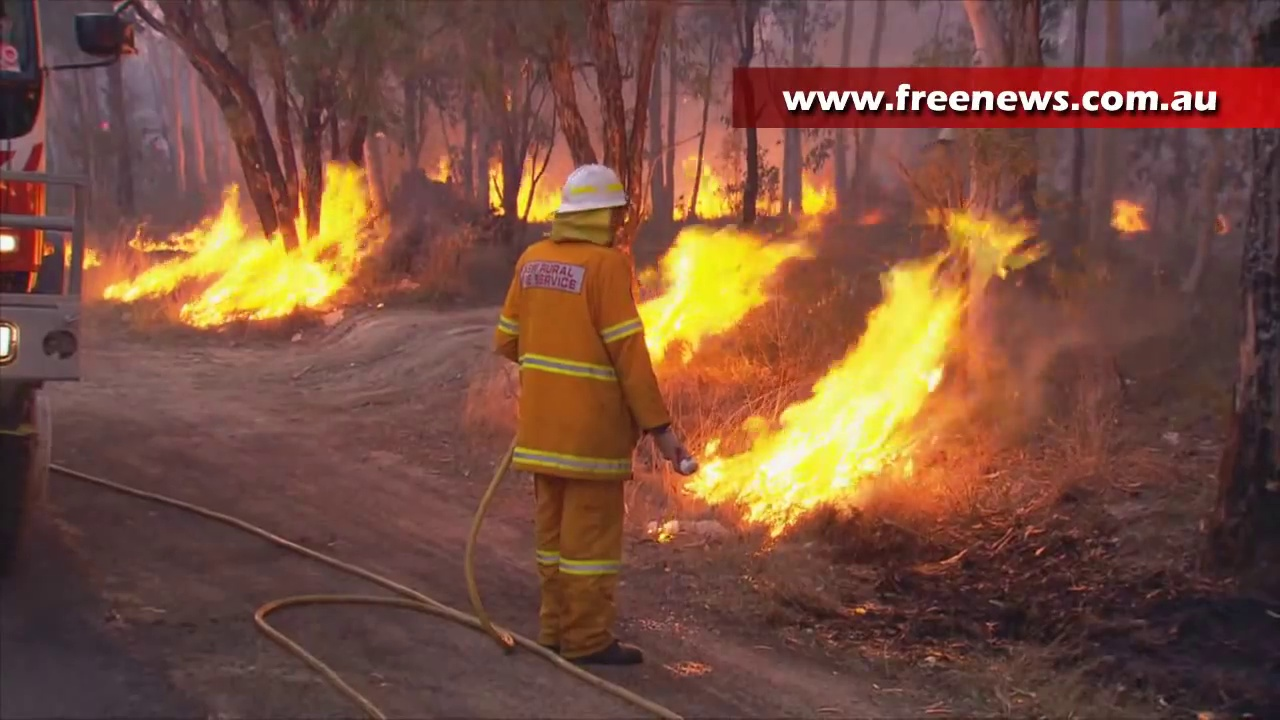fire: (696, 216, 1033, 513), (119, 157, 374, 321), (632, 229, 770, 349), (694, 179, 737, 218), (517, 178, 554, 221), (802, 179, 832, 211), (1115, 199, 1144, 231), (438, 155, 446, 183), (395, 395, 396, 396)
